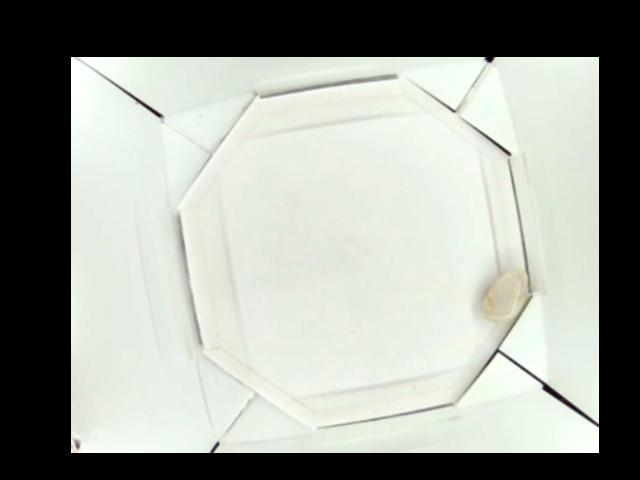Pebble: (480, 268, 524, 320)
